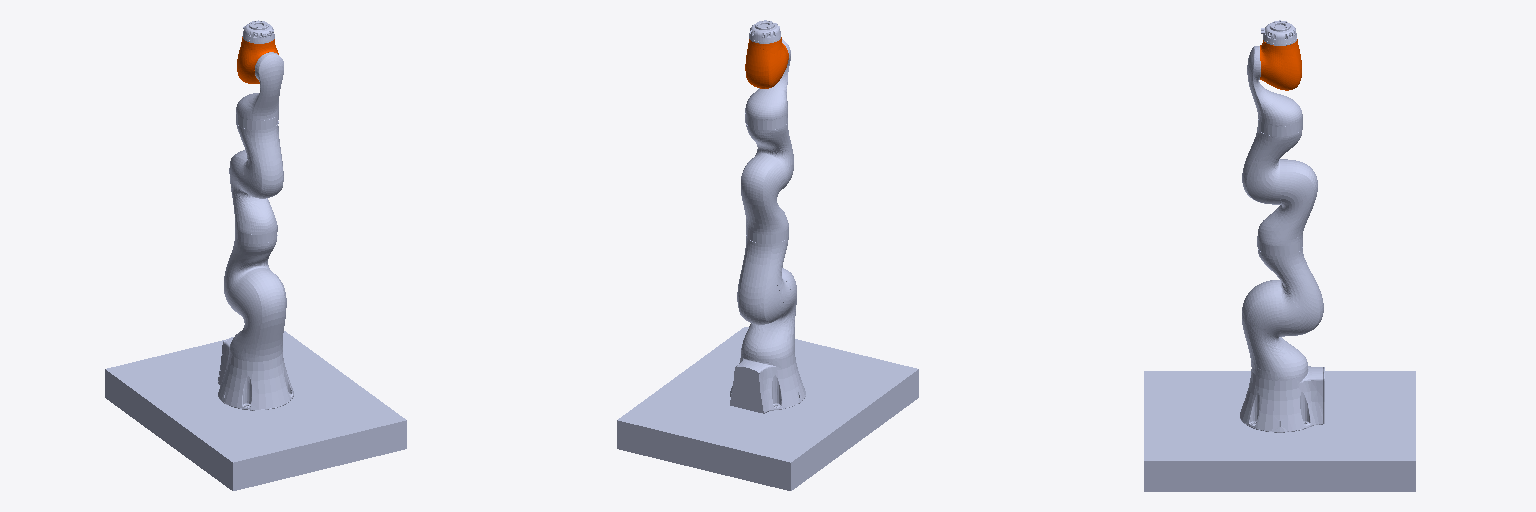
robot.urdf — Assembly_Toby:
<?xml version="1.0" encoding="utf-8"?>
<!-- This URDF was automatically created by SolidWorks to URDF Exporter! Originally created by [author] ([email redacted]) 
     Commit Version: 1.6.0-1-g15f4949  Build Version: 1.6.7594.29634
     For more information, please see http://wiki.ros.org/sw_urdf_exporter -->
<robot
  name="Assembly_Toby">
  <!-- joint_1 transmission -->
  <transmission name="joint_1_transmission">
    <type>transmission_interface/SimpleTransmission</type>
    <joint name="joint1">
      <hardwareInterface>hardware_interface/EffortJointInterface</hardwareInterface>
    </joint>
    <actuator name="link1_motor">
      <mechanicalReduction>1</mechanicalReduction>
    </actuator>
  </transmission>
  <!-- joint_2 transmission -->
  <transmission name="joint_2_transmission">
    <type>transmission_interface/SimpleTransmission</type>
    <joint name="joint2">
      <hardwareInterface>hardware_interface/EffortJointInterface</hardwareInterface>
    </joint>
    <actuator name="link2_motor">
      <mechanicalReduction>1</mechanicalReduction>
    </actuator>
  </transmission>
  <!-- joint_3 transmission -->
  <transmission name="joint_3_transmission">
    <type>transmission_interface/SimpleTransmission</type>
    <joint name="joint3">
      <hardwareInterface>hardware_interface/EffortJointInterface</hardwareInterface>
    </joint>
    <actuator name="link3_motor">
      <mechanicalReduction>1</mechanicalReduction>
    </actuator>
  </transmission>
  <!-- joint_4 transmission -->
  <transmission name="joint_4_transmission">
    <type>transmission_interface/SimpleTransmission</type>
    <joint name="joint4">
      <hardwareInterface>hardware_interface/EffortJointInterface</hardwareInterface>
    </joint>
    <actuator name="link4_motor">
      <mechanicalReduction>1</mechanicalReduction>
    </actuator>
  </transmission>
  <!-- joint_5 transmission -->
  <transmission name="joint_5_transmission">
    <type>transmission_interface/SimpleTransmission</type>
    <joint name="joint5">
      <hardwareInterface>hardware_interface/EffortJointInterface</hardwareInterface>
    </joint>
    <actuator name="link5_motor">
      <mechanicalReduction>1</mechanicalReduction>
    </actuator>
  </transmission>
  <!-- joint_6 transmission -->
  <transmission name="joint_6_transmission">
    <type>transmission_interface/SimpleTransmission</type>
    <joint name="joint6">
      <hardwareInterface>hardware_interface/EffortJointInterface</hardwareInterface>
    </joint>
    <actuator name="link6_motor">
      <mechanicalReduction>1</mechanicalReduction>
    </actuator>
  </transmission>
  <link name="dummy_link"/>
  <joint name="dummy_joint" type="fixed">
    <parent link="dummy_link"/>
    <child link="base_link"/>
  </joint>
  <link
    name="base_link">
    <inertial>
      <origin
        xyz="-6.1333E-09 0.001192 0.061975"
        rpy="0 0 0" />
      <mass
        value="58.9" />
      <inertia
        ixx="3.1312"
        ixy="-1.4789E-07"
        ixz="7.3741E-08"
        iyy="1.9816"
        iyz="-0.0083382"
        izz="4.8555" />
    </inertial>
    <visual>
      <origin
        xyz="0 0 0"
        rpy="0 0 0" />
      <geometry>
        <mesh
          filename="package://Assembly_Toby/meshes/base_link.STL" />
      </geometry>
      <material
        name="">
        <color
          rgba="0.79216 0.81961 0.93333 1" />
      </material>
    </visual>
    <collision>
      <origin
        xyz="0 0 0"
        rpy="0 0 0" />
      <geometry>
        <mesh
          filename="package://Assembly_Toby/meshes/base_link.STL" />
      </geometry>
    </collision>
  </link>
  <link
    name="link1">
    <inertial>
      <origin
        xyz="0.00218040736347661 -0.0337243626061711 0.13240264410857"
        rpy="0 0 0" />
      <mass
        value="4.10859469064854" />
      <inertia
        ixx="0.0329828168996495"
        ixy="-1.885243223923E-05"
        ixz="-0.000317717999951916"
        iyy="0.0332728022225939"
        iyz="0.00491522141997692"
        izz="0.0123261606174739" />
    </inertial>
    <visual>
      <origin
        xyz="0 0 0"
        rpy="0 0 0" />
      <geometry>
        <mesh
          filename="package://Assembly_Toby/meshes/link1.STL" />
      </geometry>
      <material
        name="">
        <color
          rgba="0.792156862745098 0.819607843137255 0.933333333333333 1" />
      </material>
    </visual>
    <collision>
      <origin
        xyz="0 0 0"
        rpy="0 0 0" />
      <geometry>
        <mesh
          filename="package://Assembly_Toby/meshes/link1.STL" />
      </geometry>
    </collision>
  </link>
  <joint
    name="joint1"
    type="revolute">
    <origin
      xyz="0 0 0.2471"
      rpy="0 0 0" />
    <parent
      link="base_link" />
    <child
      link="link1" />
    <axis
      xyz="0 0 1" />
    <limit
      lower="-0.9"
      upper="2.1"
      effort="176"
      velocity="1.71" />
  </joint>
  <link
    name="link2">
    <inertial>
      <origin
        xyz="-0.00224951008157334 -0.0588037877711722 0.0419291900081337"
        rpy="0 0 0" />
      <mass
        value="3.95133738375509" />
      <inertia
        ixx="0.0305911214182363"
        ixy="0.000384143051145242"
        ixz="1.3991331030136E-05"
        iyy="0.0110160468915564"
        iyz="-0.00487226554152378"
        izz="0.0304178401654204" />
    </inertial>
    <visual>
      <origin
        xyz="0 0 0"
        rpy="0 0 0" />
      <geometry>
        <mesh
          filename="package://Assembly_Toby/meshes/link2.STL" />
      </geometry>
      <material
        name="">
        <color
          rgba="0.792156862745098 0.819607843137255 0.933333333333333 1" />
      </material>
    </visual>
    <collision>
      <origin
        xyz="0 0 0"
        rpy="0 0 0" />
      <geometry>
        <mesh
          filename="package://Assembly_Toby/meshes/link2.STL" />
      </geometry>
    </collision>
  </link>
  <joint
    name="joint2"
    type="revolute">
    <origin
      xyz="0 0 0.2125"
      rpy="-1.5708 0 0" />
    <parent
      link="link1" />
    <child
      link="link2" />
    <axis
      xyz="-0.064561 0 0.99791" />
    <limit
      lower="-0.9"
      upper="2.1"
      effort="176"
      velocity="1.71" />
  </joint>
  <link
    name="link3">
    <inertial>
      <origin
        xyz="0.000407774908811655 0.0296054328873839 0.137231530843093"
        rpy="0 0 0" />
      <mass
        value="3.1752208370526" />
      <inertia
        ixx="0.0250811227510902"
        ixy="-1.22863788990659E-05"
        ixz="-4.05919789844277E-05"
        iyy="0.0238065793879945"
        iyz="-0.00487926204075716"
        izz="0.00761195363857435" />
    </inertial>
    <visual>
      <origin
        xyz="0 0 0"
        rpy="0 0 0" />
      <geometry>
        <mesh
          filename="package://Assembly_Toby/meshes/link3.STL" />
      </geometry>
      <material
        name="">
        <color
          rgba="0.792156862745098 0.819607843137255 0.933333333333333 1" />
      </material>
    </visual>
    <collision>
      <origin
        xyz="0 0 0"
        rpy="0 0 0" />
      <geometry>
        <mesh
          filename="package://Assembly_Toby/meshes/link3.STL" />
      </geometry>
    </collision>
  </link>
  <joint
    name="joint3"
    type="revolute">
    <origin
      xyz="0.0010034 -0.19375 6.4919E-05"
      rpy="1.5708 0 0" />
    <parent
      link="link2" />
    <child
      link="link3" />
    <axis
      xyz="0.0051789 0.00033506 0.99999" />
    <limit
      lower="0"
      upper="0"
      effort="110"
      velocity="1.75" />
  </joint>
  <link
    name="link4">
    <inertial>
      <origin
        xyz="0.00126854168597214 0.0674228239951259 0.0342355072935625"
        rpy="0 0 0" />
      <mass
        value="2.73947739501148" />
      <inertia
        ixx="0.0172019613725885"
        ixy="-0.000121157014887672"
        ixz="3.03511288037442E-05"
        iyy="0.00614202735823452"
        iyz="0.00285119542642798"
        izz="0.0163920821096097" />
    </inertial>
    <visual>
      <origin
        xyz="0 0 0"
        rpy="0 0 0" />
      <geometry>
        <mesh
          filename="package://Assembly_Toby/meshes/link4.STL" />
      </geometry>
      <material
        name="">
        <color
          rgba="0.792156862745098 0.819607843137255 0.933333333333333 1" />
      </material>
    </visual>
    <collision>
      <origin
        xyz="0 0 0"
        rpy="0 0 0" />
      <geometry>
        <mesh
          filename="package://Assembly_Toby/meshes/link4.STL" />
      </geometry>
    </collision>
  </link>
  <joint
    name="joint4"
    type="revolute">
    <origin
      xyz="0.0011717 7.5805E-05 0.22624"
      rpy="1.5708 0 0" />
    <parent
      link="link3" />
    <child
      link="link4" />
    <axis
      xyz="-0.010268 -0.00028187 -0.99995" />
    <limit
      lower="-0.9"
      upper="2.1"
      effort="110"
      velocity="2.27" />
  </joint>
  <link
    name="link5">
    <inertial>
      <origin
        xyz="0.00184747133426656 -0.0213411848305411 0.0873391392526374"
        rpy="0 0 0" />
      <mass
        value="1.69373164551603" />
      <inertia
        ixx="0.010074017921833"
        ixy="9.37665425692705E-05"
        ixz="-0.000189793907736472"
        iyy="0.00870732248467382"
        iyz="0.00308564712839952"
        izz="0.00447089835426417" />
    </inertial>
    <visual>
      <origin
        xyz="0 0 0"
        rpy="0 0 0" />
      <geometry>
        <mesh
          filename="package://Assembly_Toby/meshes/link5.STL" />
      </geometry>
      <material
        name="">
        <color
          rgba="0.792156862745098 0.819607843137255 0.933333333333333 1" />
      </material>
    </visual>
    <collision>
      <origin
        xyz="0 0 0"
        rpy="0 0 0" />
      <geometry>
        <mesh
          filename="package://Assembly_Toby/meshes/link5.STL" />
      </geometry>
    </collision>
  </link>
  <joint
    name="joint5"
    type="revolute">
    <origin
      xyz="0.0023439 0.17261 -7.2723E-05"
      rpy="-1.5708 0 0" />
    <parent
      link="link4" />
    <child
      link="link5" />
    <axis
      xyz="0.013578 0.00042129 0.99991" />
    <limit
      lower="-0.9"
      upper="2.1"
      effort="110"
      velocity="2.44" />
  </joint>
  <link
    name="link6">
    <inertial>
      <origin
        xyz="7.50055666359252E-06 -0.000569408333507271 0.000341254726302915"
        rpy="0 0 0" />
      <mass
        value="1.80835881130111" />
      <inertia
        ixx="0.00489234780264599"
        ixy="4.72697114844994E-05"
        ixz="1.49334558140658E-05"
        iyy="0.0035670848019546"
        iyz="-0.000242823408745221"
        izz="0.00468642315917161" />
    </inertial>
    <visual>
      <origin
        xyz="0 0 0"
        rpy="0 0 0" />
      <geometry>
        <mesh
          filename="package://Assembly_Toby/meshes/link6.STL" />
      </geometry>
      <material
        name="">
        <color
          rgba="1 0.4 0 1" />
      </material>
    </visual>
    <collision>
      <origin
        xyz="0 0 0"
        rpy="0 0 0" />
      <geometry>
        <mesh
          filename="package://Assembly_Toby/meshes/link6.STL" />
      </geometry>
    </collision>
  </link>
  <joint
    name="joint6"
    type="revolute">
    <origin
      xyz="0.0030874 9.5791E-05 0.22736"
      rpy="-1.5708 0 0" />
    <parent
      link="link5" />
    <child
      link="link6" />
    <axis
      xyz="-0.036539 -7.5142E-05 0.99933" />
    <limit
      lower="-0.9"
      upper="2.1"
      effort="40"
      velocity="3.14" />
  </joint>
  <link
    name="link7">
    <inertial>
      <origin
        xyz="0.00088317289766324 -6.5339627583698E-05 0.0302627878909889"
        rpy="0 0 0" />
      <mass
        value="0.311354571095797" />
      <inertia
        ixx="0.000222562363030159"
        ixy="5.77714357954496E-08"
        ixz="3.36766488756988E-06"
        iyy="0.000221327958811756"
        iyz="3.6248865261704E-07"
        izz="0.000341927344423913" />
    </inertial>
    <visual>
      <origin
        xyz="0 0 0"
        rpy="0 0 0" />
      <geometry>
        <mesh
          filename="package://Assembly_Toby/meshes/link7.STL" />
      </geometry>
      <material
        name="">
        <color
          rgba="0.792156862745098 0.819607843137255 0.933333333333333 1" />
      </material>
    </visual>
    <collision>
      <origin
        xyz="0 0 0"
        rpy="0 0 0" />
      <geometry>
        <mesh
          filename="package://Assembly_Toby/meshes/link7.STL" />
      </geometry>
    </collision>
  </link>
  <joint
    name="joint7"
    type="revolute">
    <origin
      xyz="0.0019653 -0.068075 6.6741E-05"
      rpy="1.5708 0 0" />
    <parent
      link="link6" />
    <child
      link="link7" />
    <axis
      xyz="0.028858 0.00097999 0.99958" />
    <limit
      lower="-0.9"
      upper="2.1"
      effort="40"
      velocity="3.14" />
  </joint>
</robot>

--- Render facts (derived) ---
3 views of the same robot in one strip: view 1: azimuth 30°, elevation 25°; view 2: azimuth 150°, elevation 25°; view 3: azimuth 270°, elevation 25° (orthographic).
Robot: Assembly_Toby — 9 links, 8 joints (7 revolute, 1 fixed); root link dummy_link; default pose: every joint at zero.
Visible links, largest first — view 1: base_link, link1, link4, link5, link3, link2, link6, link7; view 2: base_link, link2, link3, link1, link5, link6, link4, link7; view 3: base_link, link1, link3, link2, link4, link5, link6, link7.
Boxes of the visible links, bbox=[...] form: base_link: bbox=[105, 331, 406, 490]; link1: bbox=[229, 268, 286, 361]; link4: bbox=[236, 121, 283, 198]; link5: bbox=[236, 52, 283, 129]; link3: bbox=[229, 150, 277, 243]; link2: bbox=[224, 235, 277, 314]; link6: bbox=[237, 37, 278, 83]; link7: bbox=[242, 20, 274, 43]; base_link: bbox=[617, 327, 918, 490]; link2: bbox=[737, 235, 791, 324]; link3: bbox=[741, 154, 788, 243]; link1: bbox=[741, 268, 796, 361]; link5: bbox=[745, 39, 790, 129]; link6: bbox=[745, 37, 788, 88]; link4: bbox=[745, 122, 793, 188]; link7: bbox=[749, 20, 780, 43]; base_link: bbox=[1144, 366, 1415, 491]; link1: bbox=[1242, 280, 1307, 380]; link3: bbox=[1257, 159, 1317, 255]; link2: bbox=[1258, 247, 1323, 336]; link4: bbox=[1242, 127, 1302, 204]; link5: bbox=[1247, 46, 1302, 136]; link6: bbox=[1260, 39, 1301, 90]; link7: bbox=[1261, 20, 1296, 45].
Bounding box of the posed robot: 0.6427 × 0.8183 × 1.41 m (x, y, z).
Meshes: 8 distinct files referenced, 8 mesh visuals loaded (8 binary STL).
